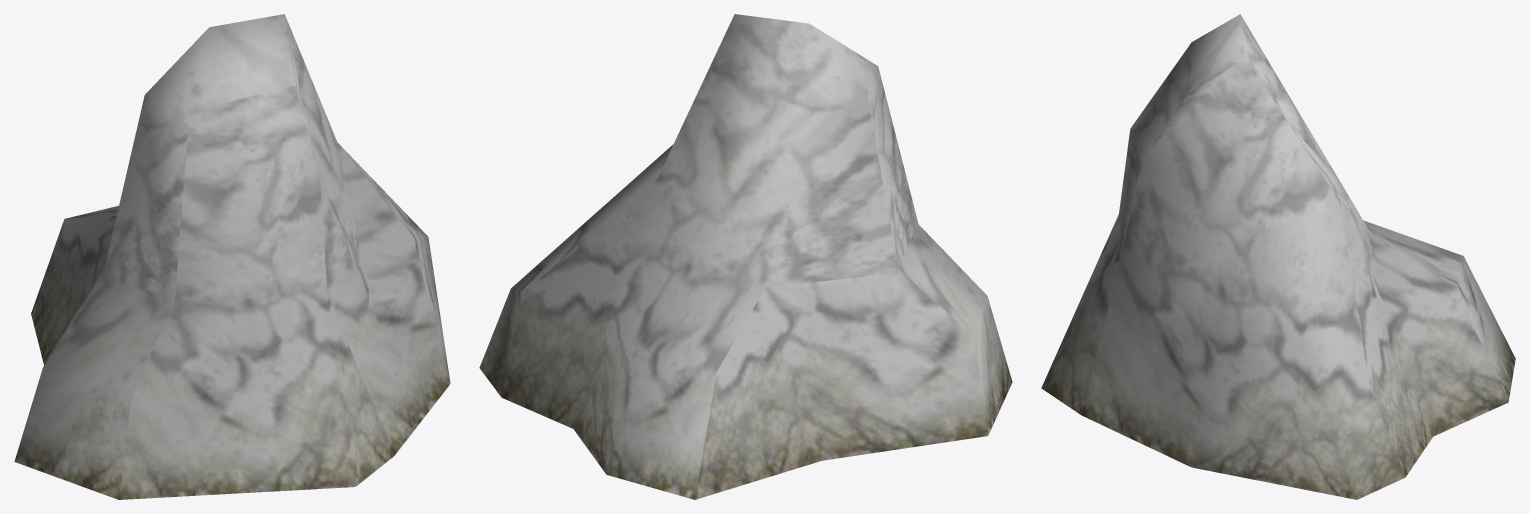
File: general_obj_bigstone06_lod_01.fbx
The picture shows the model from 3 angles, left to right: view 1: azimuth 30°, elevation 25°; view 2: azimuth 150°, elevation 25°; view 3: azimuth 270°, elevation 25°; orthographic projection. The views are drawn at different scales.
Parts seen in each view (by area): view 1: Sphere01fs; view 2: Sphere01fs; view 3: Sphere01fs.
Boxes of the visible parts, x1=… form: Sphere01fs: x1=14, y1=14, x2=450, y2=499; Sphere01fs: x1=479, y1=14, x2=1012, y2=499; Sphere01fs: x1=1041, y1=14, x2=1515, y2=499.
Size of the model in its own units: 19.95 by 15.49 by 18.64.
